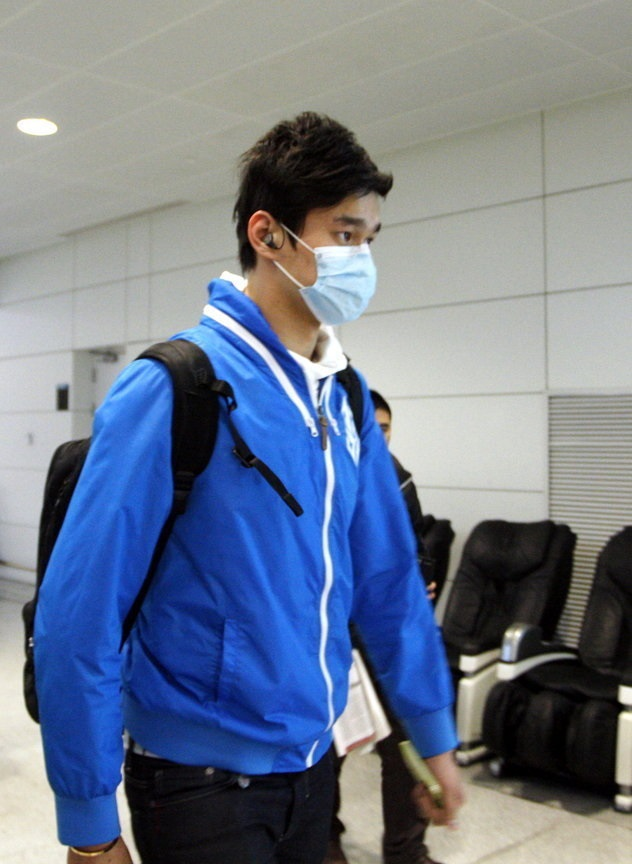face_mask: (286, 177, 377, 328), (362, 408, 390, 458)
